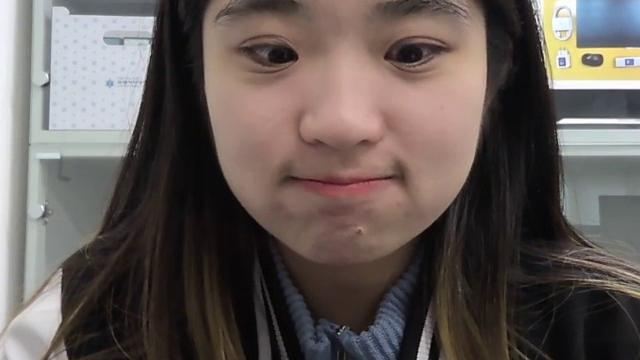eye: (399, 45, 422, 66), (270, 47, 293, 66)
iris: (384, 39, 440, 64), (250, 41, 300, 65)
